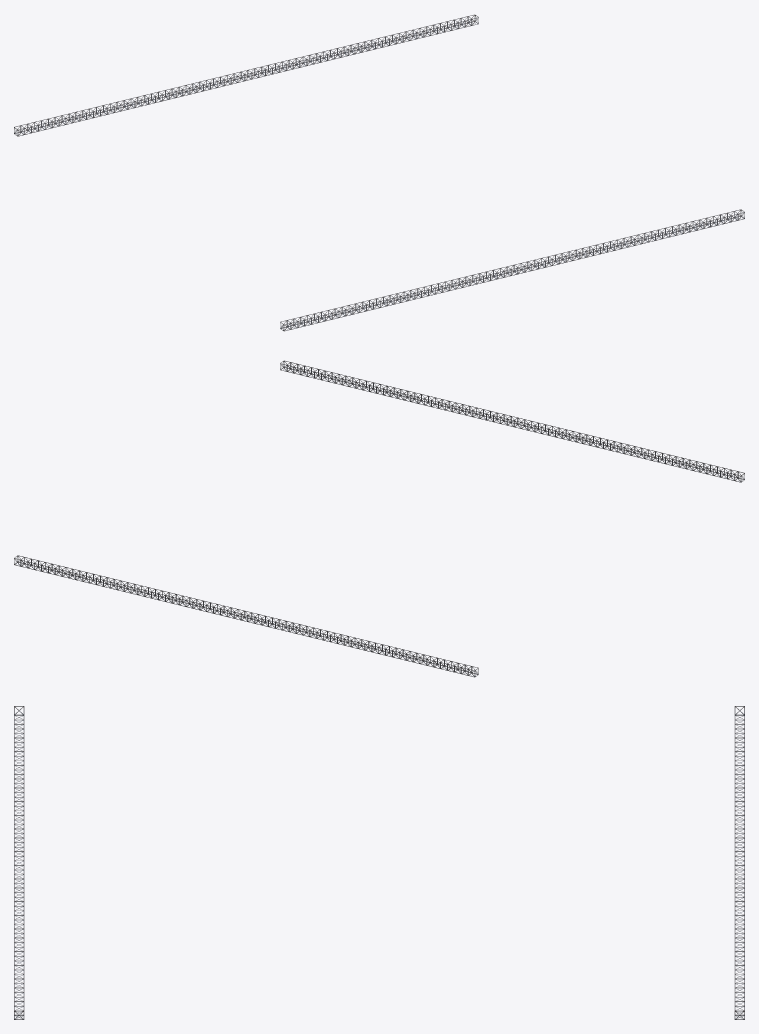
File: supports.fbx
The picture shows the model from 3 angles, top to bottom: view 1: azimuth 30°, elevation 25°; view 2: azimuth 150°, elevation 25°; view 3: azimuth 270°, elevation 25°; orthographic projection. The views are drawn at different scales.
Parts seen in each view (by area): view 1: mesh_1, mesh_0; view 2: mesh_0, mesh_1; view 3: mesh_1, mesh_0.
Part boxes in pixels (x1,y1,x2,y2): mesh_1: [14, 14, 478, 136]; mesh_0: [280, 209, 744, 331]; mesh_0: [280, 360, 744, 482]; mesh_1: [14, 555, 478, 677]; mesh_1: [734, 706, 744, 1019]; mesh_0: [14, 706, 24, 1019].
Size of the model in its own units: 2800 by 40 by 2840.
1 material, 1 textured.
